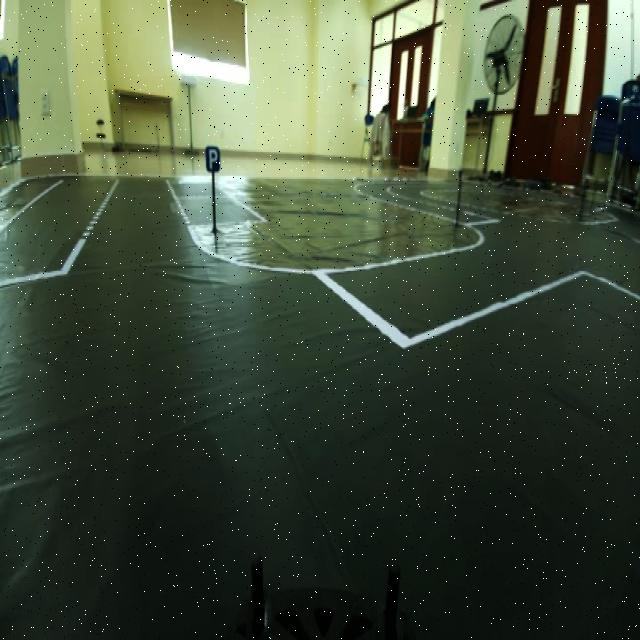parking: (204, 141, 224, 174)
